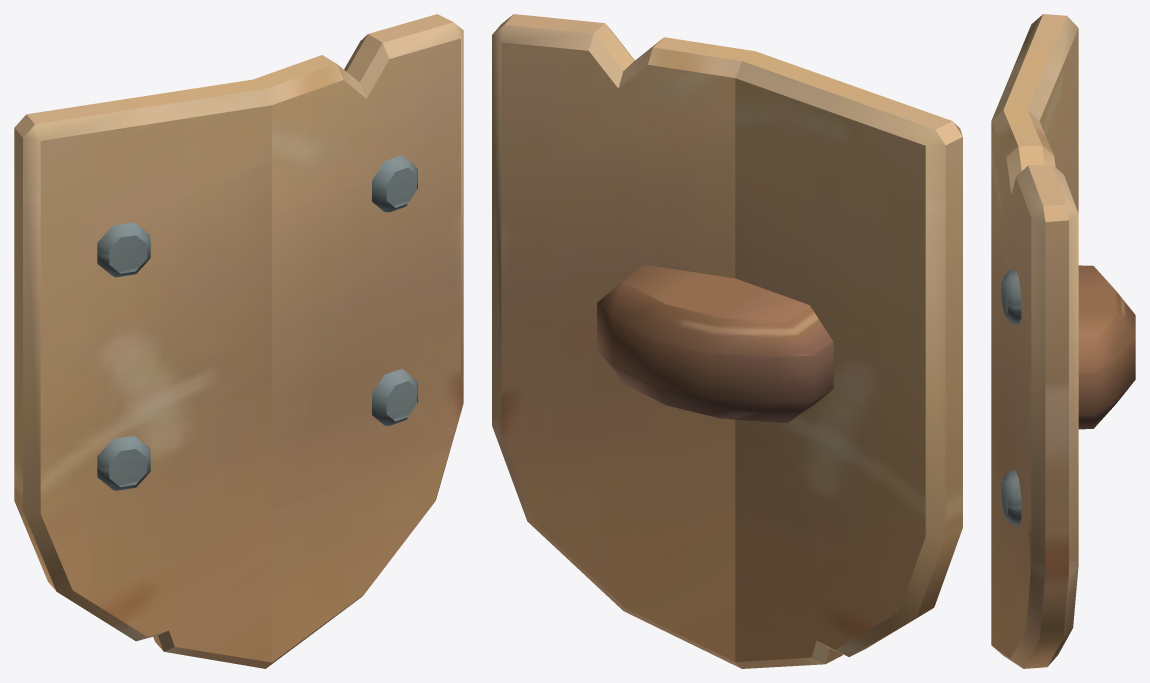
Rendered from wpn_shield_A.glb.
3 views of the same model, side by side, from view 1: azimuth 30°, elevation 25°; view 2: azimuth 150°, elevation 25°; view 3: azimuth 270°, elevation 25° (orthographic). The views are drawn at different scales.
Parts seen in each view (by area): view 1: shield_A; view 2: shield_A; view 3: shield_A.
Boxes of the visible parts, x1=… form: shield_A: x1=14, y1=14, x2=463, y2=668; shield_A: x1=492, y1=14, x2=962, y2=668; shield_A: x1=991, y1=14, x2=1135, y2=668.
Bounding box in the file's own units: 0.7726 × 0.9799 × 0.233.
1 material, 1 textured.
